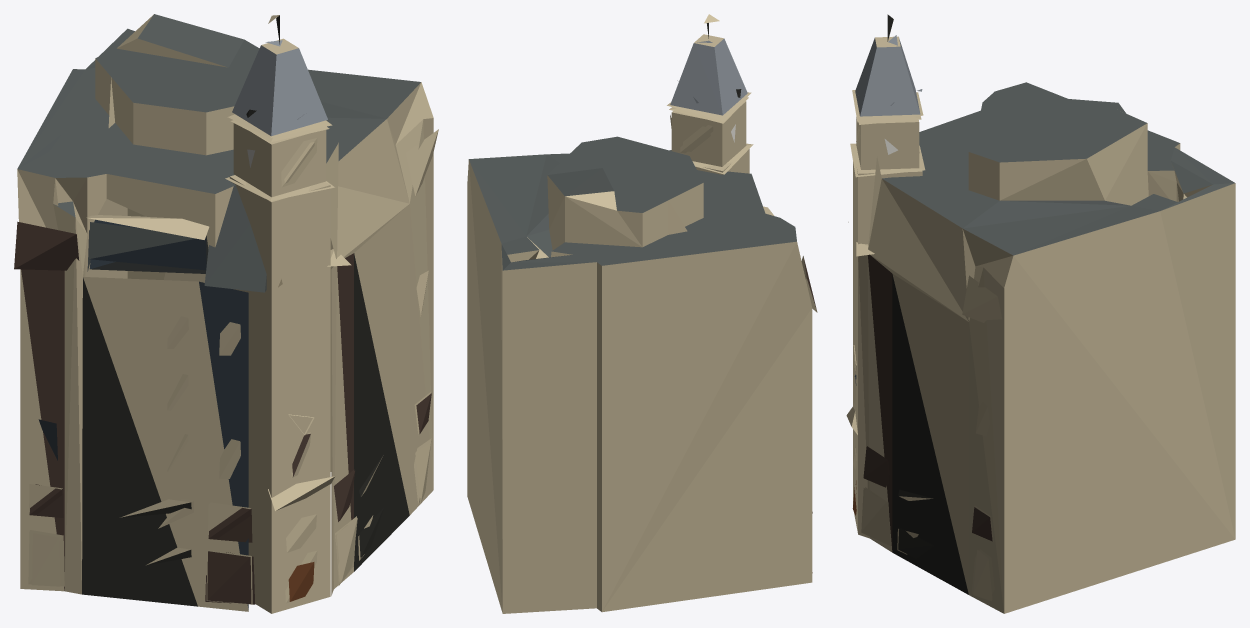
The model's file is metz-keizersgracht-455.lod2.glb.
3 views of the same model, side by side, from view 1: azimuth 30°, elevation 25°; view 2: azimuth 150°, elevation 25°; view 3: azimuth 270°, elevation 25° (orthographic). The views are drawn at different scales.
Parts seen in each view (by area): view 1: lod2; view 2: lod2; view 3: lod2.
Part boxes in pixels (x1,y1,x2,y2): lod2: (14,14,438,613); lod2: (467,14,817,613); lod2: (846,14,1235,613).
Bounding box in the file's own units: 29.08 × 38.3 × 26.71.
